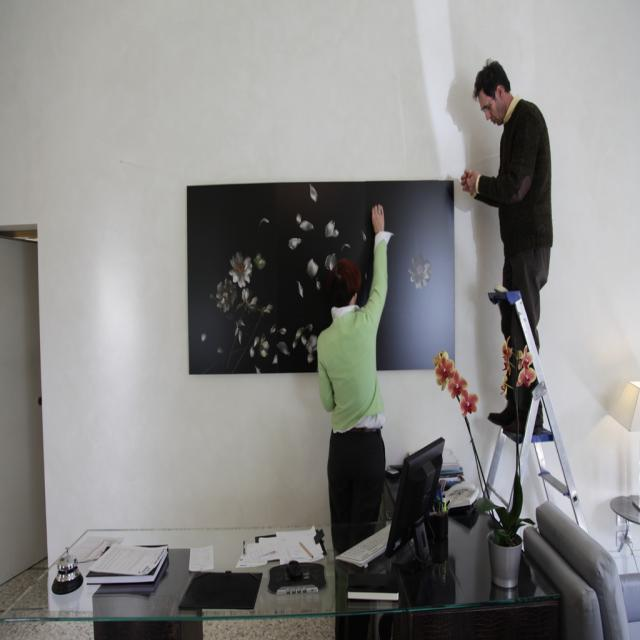desk: (2, 531, 563, 635)
laptop: (333, 436, 446, 570)
person: (460, 60, 554, 349), (317, 200, 394, 544)
